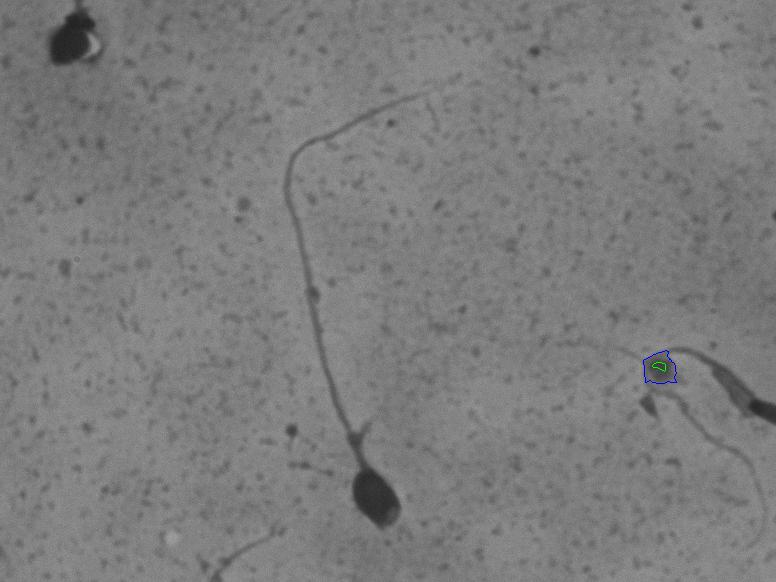Abnormal: (263, 61, 451, 549)
